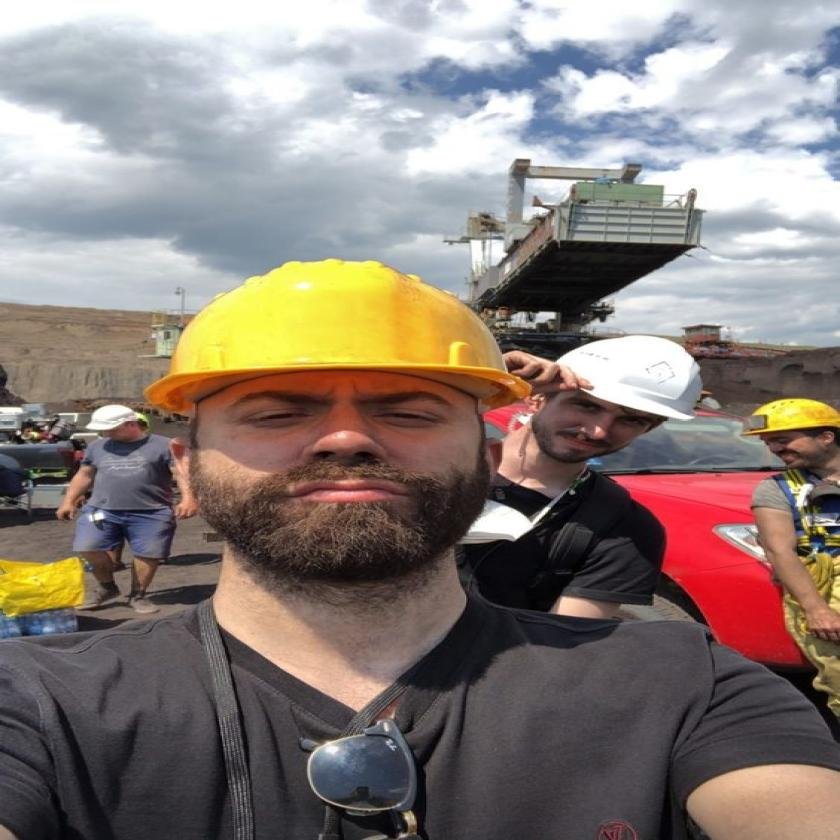Con_casco: (144, 226, 505, 600), (524, 324, 724, 482), (745, 392, 840, 489), (81, 388, 157, 454)
